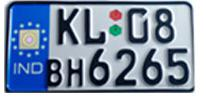0: (124, 6, 150, 43)
2: (114, 47, 136, 86)
5: (165, 46, 189, 84)
6: (140, 47, 164, 85), (87, 46, 110, 85)
8: (152, 7, 174, 43)
B: (45, 57, 63, 86)
H: (66, 56, 85, 87)
K: (55, 7, 82, 45)
L: (81, 7, 107, 45)
